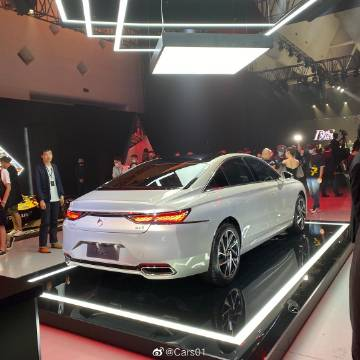other: (57, 154, 315, 279)
